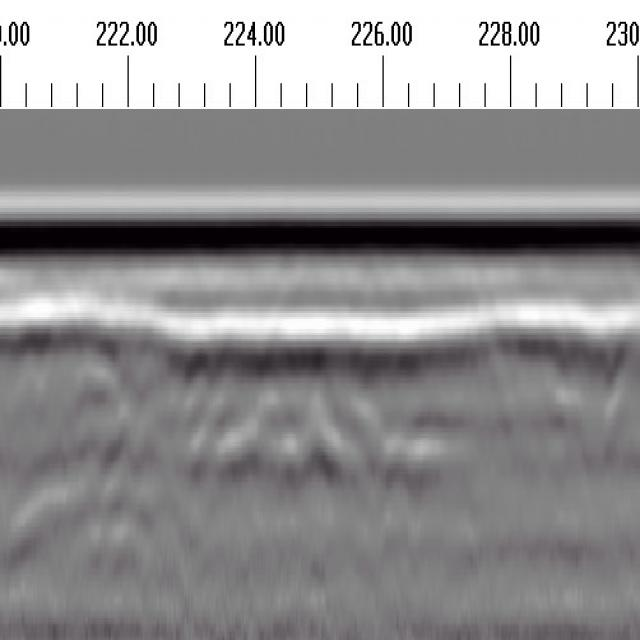loose: (81, 336, 445, 486)
